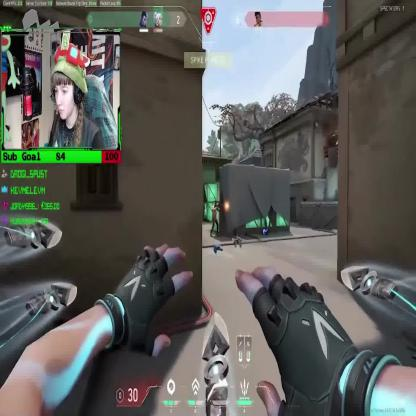enemy: (209, 200, 220, 234)
enemy_head: (214, 201, 217, 207)
